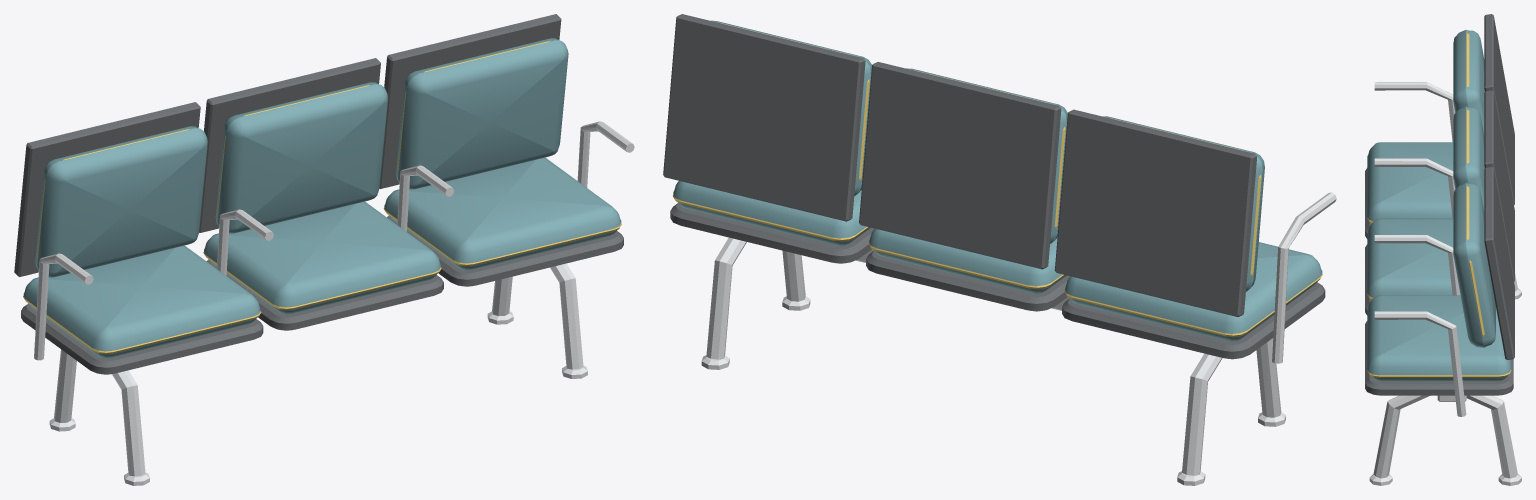
The model's file is clinic-and-veterinary-practice-waiting-bench-3-seat-bef06621__16721.glb.
3 views of the same model, side by side, from view 1: azimuth 30°, elevation 25°; view 2: azimuth 150°, elevation 25°; view 3: azimuth 270°, elevation 25° (orthographic). The views are drawn at different scales.
Visible parts, largest first — view 1: waiting-bench-3-seat; view 2: waiting-bench-3-seat; view 3: waiting-bench-3-seat.
Boxes of the visible parts, x1,y1,x2,y2 form: waiting-bench-3-seat: (14, 14, 634, 485); waiting-bench-3-seat: (663, 14, 1336, 485); waiting-bench-3-seat: (1365, 14, 1521, 485).
Bounding box in the file's own units: 1.71 × 0.8962 × 0.486.
